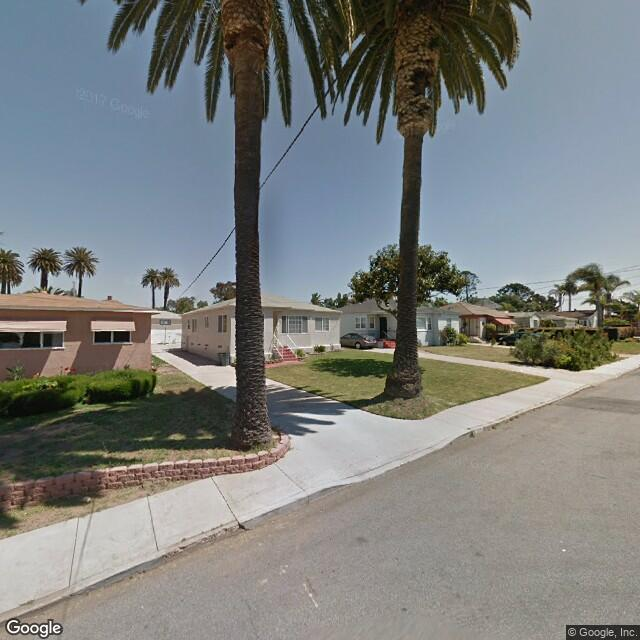litter: (564, 545, 577, 558)
